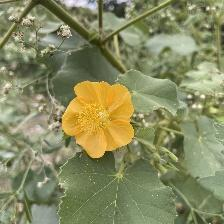indian mallow: (61, 80, 140, 162)
